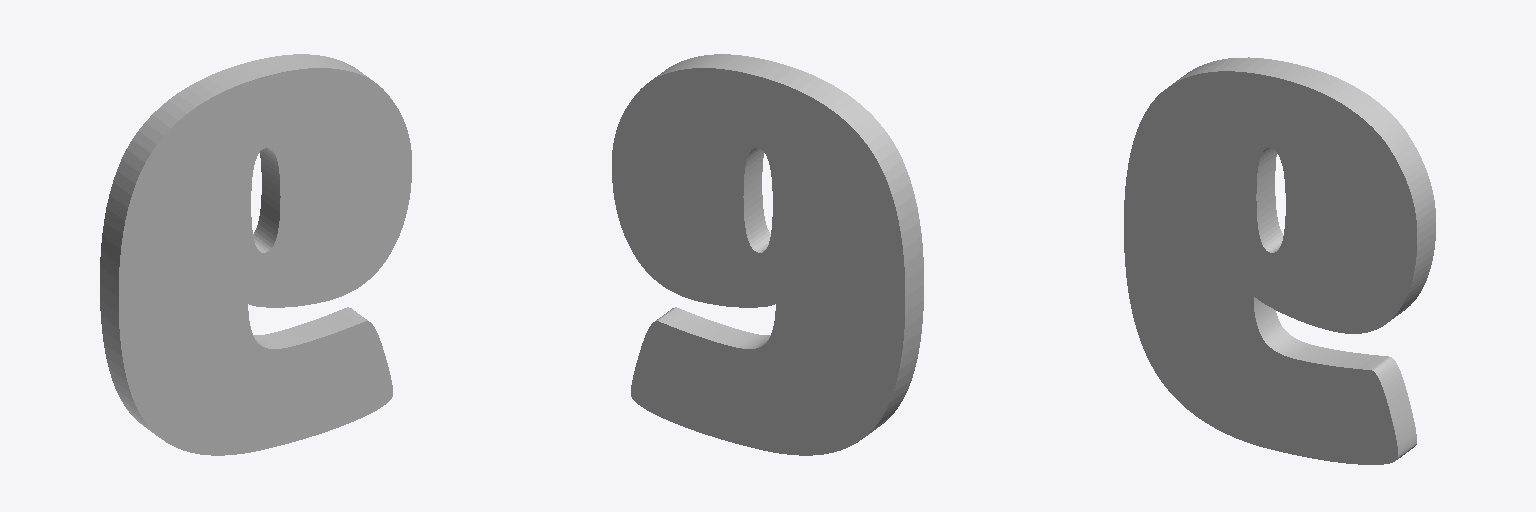
The model's file is number9.obj.
The picture shows the model from 3 angles: view 1: azimuth 30°, elevation 25°; view 2: azimuth 150°, elevation 25°; view 3: azimuth 330°, elevation 25°; orthographic projection.
Visible parts, largest first — view 1: 9; view 2: 9; view 3: 9.
Part boxes in pixels (bbox=[...]): 9: bbox=[100, 54, 411, 455]; 9: bbox=[612, 54, 923, 455]; 9: bbox=[1124, 57, 1435, 464].
Size of the model in its own units: 1.81 by 2.19 by 0.2.